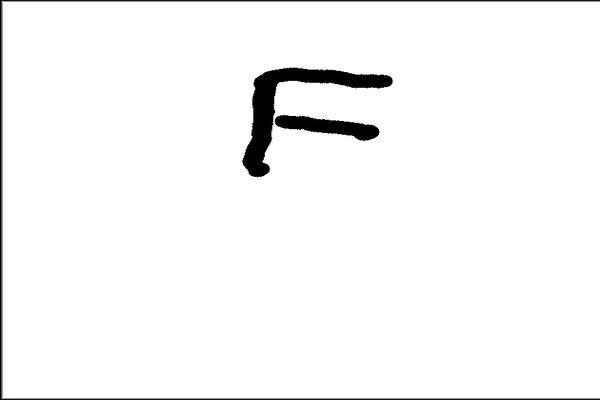F: (236, 63, 394, 180)
